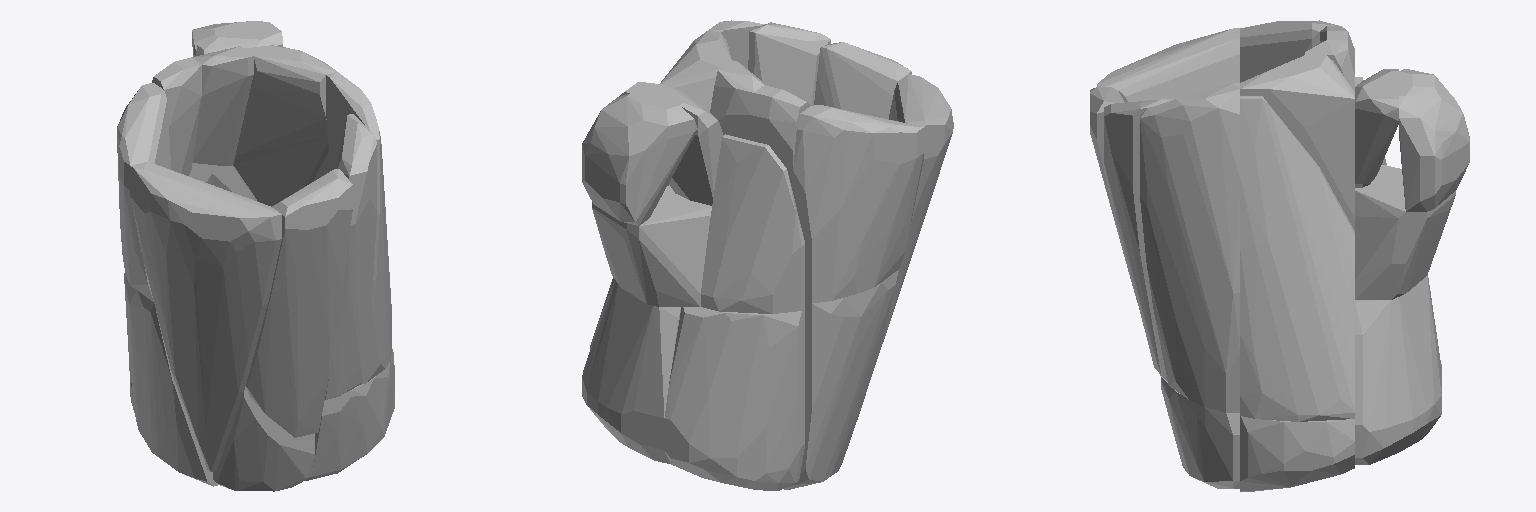
The robot description file, URDF, robot "root":
<robot name="root">
  <link name="link_6aec84952a5ffcf33f60d03e1cb068dc_convex_piece_0">
    <inertial>
      <origin rpy="0 0 0" xyz="0 0 0"/>
      <mass value="7.68E-07"/>
      <inertia ixx="2.96E-10" ixy="-3.58E-11" ixz="3.61E-11" iyy="1.75E-10" iyz="-1.30E-10" izz="1.61E-10"/>
    </inertial>
    <visual>
      <origin rpy="0 0 0" xyz="0 0 0"/>
      <geometry>
        <mesh filename="6aec84952a5ffcf33f60d03e1cb068dc_convex_piece_0.obj" scale="1.0000E+00"/>
      </geometry>
      <material name="">
        <color rgba="7.50E-01 7.50E-01 7.50E-01 1"/>
      </material>
    </visual>
    <collision>
      <origin rpy="0 0 0" xyz="0 0 0"/>
      <geometry>
        <mesh filename="6aec84952a5ffcf33f60d03e1cb068dc_convex_piece_0.obj" scale="1.0000E+00"/>
      </geometry>
    </collision>
  </link>
  <link name="link_6aec84952a5ffcf33f60d03e1cb068dc_convex_piece_1">
    <inertial>
      <origin rpy="0 0 0" xyz="0 0 0"/>
      <mass value="8.44E-07"/>
      <inertia ixx="3.04E-10" ixy="9.77E-11" ixz="-8.57E-11" iyy="2.18E-10" iyz="-1.34E-10" izz="2.41E-10"/>
    </inertial>
    <visual>
      <origin rpy="0 0 0" xyz="0 0 0"/>
      <geometry>
        <mesh filename="6aec84952a5ffcf33f60d03e1cb068dc_convex_piece_1.obj" scale="1.0000E+00"/>
      </geometry>
      <material name="">
        <color rgba="7.50E-01 7.50E-01 7.50E-01 1"/>
      </material>
    </visual>
    <collision>
      <origin rpy="0 0 0" xyz="0 0 0"/>
      <geometry>
        <mesh filename="6aec84952a5ffcf33f60d03e1cb068dc_convex_piece_1.obj" scale="1.0000E+00"/>
      </geometry>
    </collision>
  </link>
  <joint name="link_6aec84952a5ffcf33f60d03e1cb068dc_convex_piece_1_joint" type="fixed">
    <origin rpy="0 0 0" xyz="0 0 0"/>
    <parent link="link_6aec84952a5ffcf33f60d03e1cb068dc_convex_piece_0"/>
    <child link="link_6aec84952a5ffcf33f60d03e1cb068dc_convex_piece_1"/>
  </joint>
  <link name="link_6aec84952a5ffcf33f60d03e1cb068dc_convex_piece_2">
    <inertial>
      <origin rpy="0 0 0" xyz="0 0 0"/>
      <mass value="2.30E-07"/>
      <inertia ixx="5.10E-11" ixy="-1.28E-11" ixz="-8.72E-12" iyy="2.86E-11" iyz="2.03E-11" izz="3.72E-11"/>
    </inertial>
    <visual>
      <origin rpy="0 0 0" xyz="0 0 0"/>
      <geometry>
        <mesh filename="6aec84952a5ffcf33f60d03e1cb068dc_convex_piece_2.obj" scale="1.0000E+00"/>
      </geometry>
      <material name="">
        <color rgba="7.50E-01 7.50E-01 7.50E-01 1"/>
      </material>
    </visual>
    <collision>
      <origin rpy="0 0 0" xyz="0 0 0"/>
      <geometry>
        <mesh filename="6aec84952a5ffcf33f60d03e1cb068dc_convex_piece_2.obj" scale="1.0000E+00"/>
      </geometry>
    </collision>
  </link>
  <joint name="link_6aec84952a5ffcf33f60d03e1cb068dc_convex_piece_2_joint" type="fixed">
    <origin rpy="0 0 0" xyz="0 0 0"/>
    <parent link="link_6aec84952a5ffcf33f60d03e1cb068dc_convex_piece_1"/>
    <child link="link_6aec84952a5ffcf33f60d03e1cb068dc_convex_piece_2"/>
  </joint>
  <link name="link_6aec84952a5ffcf33f60d03e1cb068dc_convex_piece_3">
    <inertial>
      <origin rpy="0 0 0" xyz="0 0 0"/>
      <mass value="9.15E-07"/>
      <inertia ixx="2.45E-10" ixy="1.29E-10" ixz="-8.41E-11" iyy="2.80E-10" iyz="-7.55E-11" izz="2.93E-10"/>
    </inertial>
    <visual>
      <origin rpy="0 0 0" xyz="0 0 0"/>
      <geometry>
        <mesh filename="6aec84952a5ffcf33f60d03e1cb068dc_convex_piece_3.obj" scale="1.0000E+00"/>
      </geometry>
      <material name="">
        <color rgba="7.50E-01 7.50E-01 7.50E-01 1"/>
      </material>
    </visual>
    <collision>
      <origin rpy="0 0 0" xyz="0 0 0"/>
      <geometry>
        <mesh filename="6aec84952a5ffcf33f60d03e1cb068dc_convex_piece_3.obj" scale="1.0000E+00"/>
      </geometry>
    </collision>
  </link>
  <joint name="link_6aec84952a5ffcf33f60d03e1cb068dc_convex_piece_3_joint" type="fixed">
    <origin rpy="0 0 0" xyz="0 0 0"/>
    <parent link="link_6aec84952a5ffcf33f60d03e1cb068dc_convex_piece_2"/>
    <child link="link_6aec84952a5ffcf33f60d03e1cb068dc_convex_piece_3"/>
  </joint>
  <link name="link_6aec84952a5ffcf33f60d03e1cb068dc_convex_piece_4">
    <inertial>
      <origin rpy="0 0 0" xyz="0 0 0"/>
      <mass value="4.13E-07"/>
      <inertia ixx="1.96E-10" ixy="-2.95E-11" ixz="-6.96E-11" iyy="2.02E-10" iyz="6.80E-11" izz="6.95E-11"/>
    </inertial>
    <visual>
      <origin rpy="0 0 0" xyz="0 0 0"/>
      <geometry>
        <mesh filename="6aec84952a5ffcf33f60d03e1cb068dc_convex_piece_4.obj" scale="1.0000E+00"/>
      </geometry>
      <material name="">
        <color rgba="7.50E-01 7.50E-01 7.50E-01 1"/>
      </material>
    </visual>
    <collision>
      <origin rpy="0 0 0" xyz="0 0 0"/>
      <geometry>
        <mesh filename="6aec84952a5ffcf33f60d03e1cb068dc_convex_piece_4.obj" scale="1.0000E+00"/>
      </geometry>
    </collision>
  </link>
  <joint name="link_6aec84952a5ffcf33f60d03e1cb068dc_convex_piece_4_joint" type="fixed">
    <origin rpy="0 0 0" xyz="0 0 0"/>
    <parent link="link_6aec84952a5ffcf33f60d03e1cb068dc_convex_piece_3"/>
    <child link="link_6aec84952a5ffcf33f60d03e1cb068dc_convex_piece_4"/>
  </joint>
  <link name="link_6aec84952a5ffcf33f60d03e1cb068dc_convex_piece_5">
    <inertial>
      <origin rpy="0 0 0" xyz="0 0 0"/>
      <mass value="4.91E-07"/>
      <inertia ixx="1.29E-10" ixy="4.54E-11" ixz="2.09E-11" iyy="5.23E-11" iyz="4.58E-11" izz="1.29E-10"/>
    </inertial>
    <visual>
      <origin rpy="0 0 0" xyz="0 0 0"/>
      <geometry>
        <mesh filename="6aec84952a5ffcf33f60d03e1cb068dc_convex_piece_5.obj" scale="1.0000E+00"/>
      </geometry>
      <material name="">
        <color rgba="7.50E-01 7.50E-01 7.50E-01 1"/>
      </material>
    </visual>
    <collision>
      <origin rpy="0 0 0" xyz="0 0 0"/>
      <geometry>
        <mesh filename="6aec84952a5ffcf33f60d03e1cb068dc_convex_piece_5.obj" scale="1.0000E+00"/>
      </geometry>
    </collision>
  </link>
  <joint name="link_6aec84952a5ffcf33f60d03e1cb068dc_convex_piece_5_joint" type="fixed">
    <origin rpy="0 0 0" xyz="0 0 0"/>
    <parent link="link_6aec84952a5ffcf33f60d03e1cb068dc_convex_piece_4"/>
    <child link="link_6aec84952a5ffcf33f60d03e1cb068dc_convex_piece_5"/>
  </joint>
  <link name="link_6aec84952a5ffcf33f60d03e1cb068dc_convex_piece_6">
    <inertial>
      <origin rpy="0 0 0" xyz="0 0 0"/>
      <mass value="5.90E-07"/>
      <inertia ixx="2.36E-10" ixy="2.71E-11" ixz="-7.65E-12" iyy="6.95E-11" iyz="-5.50E-11" izz="1.84E-10"/>
    </inertial>
    <visual>
      <origin rpy="0 0 0" xyz="0 0 0"/>
      <geometry>
        <mesh filename="6aec84952a5ffcf33f60d03e1cb068dc_convex_piece_6.obj" scale="1.0000E+00"/>
      </geometry>
      <material name="">
        <color rgba="7.50E-01 7.50E-01 7.50E-01 1"/>
      </material>
    </visual>
    <collision>
      <origin rpy="0 0 0" xyz="0 0 0"/>
      <geometry>
        <mesh filename="6aec84952a5ffcf33f60d03e1cb068dc_convex_piece_6.obj" scale="1.0000E+00"/>
      </geometry>
    </collision>
  </link>
  <joint name="link_6aec84952a5ffcf33f60d03e1cb068dc_convex_piece_6_joint" type="fixed">
    <origin rpy="0 0 0" xyz="0 0 0"/>
    <parent link="link_6aec84952a5ffcf33f60d03e1cb068dc_convex_piece_5"/>
    <child link="link_6aec84952a5ffcf33f60d03e1cb068dc_convex_piece_6"/>
  </joint>
  <link name="link_6aec84952a5ffcf33f60d03e1cb068dc_convex_piece_7">
    <inertial>
      <origin rpy="0 0 0" xyz="0 0 0"/>
      <mass value="3.85E-07"/>
      <inertia ixx="1.69E-10" ixy="1.03E-11" ixz="2.00E-11" iyy="1.44E-10" iyz="5.89E-11" izz="3.86E-11"/>
    </inertial>
    <visual>
      <origin rpy="0 0 0" xyz="0 0 0"/>
      <geometry>
        <mesh filename="6aec84952a5ffcf33f60d03e1cb068dc_convex_piece_7.obj" scale="1.0000E+00"/>
      </geometry>
      <material name="">
        <color rgba="7.50E-01 7.50E-01 7.50E-01 1"/>
      </material>
    </visual>
    <collision>
      <origin rpy="0 0 0" xyz="0 0 0"/>
      <geometry>
        <mesh filename="6aec84952a5ffcf33f60d03e1cb068dc_convex_piece_7.obj" scale="1.0000E+00"/>
      </geometry>
    </collision>
  </link>
  <joint name="link_6aec84952a5ffcf33f60d03e1cb068dc_convex_piece_7_joint" type="fixed">
    <origin rpy="0 0 0" xyz="0 0 0"/>
    <parent link="link_6aec84952a5ffcf33f60d03e1cb068dc_convex_piece_6"/>
    <child link="link_6aec84952a5ffcf33f60d03e1cb068dc_convex_piece_7"/>
  </joint>
  <link name="link_6aec84952a5ffcf33f60d03e1cb068dc_convex_piece_8">
    <inertial>
      <origin rpy="0 0 0" xyz="0 0 0"/>
      <mass value="8.21E-07"/>
      <inertia ixx="1.89E-10" ixy="-2.11E-11" ixz="1.01E-10" iyy="2.70E-10" iyz="-2.41E-11" izz="1.15E-10"/>
    </inertial>
    <visual>
      <origin rpy="0 0 0" xyz="0 0 0"/>
      <geometry>
        <mesh filename="6aec84952a5ffcf33f60d03e1cb068dc_convex_piece_8.obj" scale="1.0000E+00"/>
      </geometry>
      <material name="">
        <color rgba="7.50E-01 7.50E-01 7.50E-01 1"/>
      </material>
    </visual>
    <collision>
      <origin rpy="0 0 0" xyz="0 0 0"/>
      <geometry>
        <mesh filename="6aec84952a5ffcf33f60d03e1cb068dc_convex_piece_8.obj" scale="1.0000E+00"/>
      </geometry>
    </collision>
  </link>
  <joint name="link_6aec84952a5ffcf33f60d03e1cb068dc_convex_piece_8_joint" type="fixed">
    <origin rpy="0 0 0" xyz="0 0 0"/>
    <parent link="link_6aec84952a5ffcf33f60d03e1cb068dc_convex_piece_7"/>
    <child link="link_6aec84952a5ffcf33f60d03e1cb068dc_convex_piece_8"/>
  </joint>
  <link name="link_6aec84952a5ffcf33f60d03e1cb068dc_convex_piece_9">
    <inertial>
      <origin rpy="0 0 0" xyz="0 0 0"/>
      <mass value="2.19E-07"/>
      <inertia ixx="1.30E-10" ixy="-1.06E-12" ixz="1.24E-11" iyy="1.29E-10" iyz="-9.74E-12" izz="6.34E-12"/>
    </inertial>
    <visual>
      <origin rpy="0 0 0" xyz="0 0 0"/>
      <geometry>
        <mesh filename="6aec84952a5ffcf33f60d03e1cb068dc_convex_piece_9.obj" scale="1.0000E+00"/>
      </geometry>
      <material name="">
        <color rgba="7.50E-01 7.50E-01 7.50E-01 1"/>
      </material>
    </visual>
    <collision>
      <origin rpy="0 0 0" xyz="0 0 0"/>
      <geometry>
        <mesh filename="6aec84952a5ffcf33f60d03e1cb068dc_convex_piece_9.obj" scale="1.0000E+00"/>
      </geometry>
    </collision>
  </link>
  <joint name="link_6aec84952a5ffcf33f60d03e1cb068dc_convex_piece_9_joint" type="fixed">
    <origin rpy="0 0 0" xyz="0 0 0"/>
    <parent link="link_6aec84952a5ffcf33f60d03e1cb068dc_convex_piece_8"/>
    <child link="link_6aec84952a5ffcf33f60d03e1cb068dc_convex_piece_9"/>
  </joint>
  <link name="link_6aec84952a5ffcf33f60d03e1cb068dc_convex_piece_10">
    <inertial>
      <origin rpy="0 0 0" xyz="0 0 0"/>
      <mass value="6.22E-07"/>
      <inertia ixx="1.31E-10" ixy="-1.64E-11" ixz="-1.11E-10" iyy="2.51E-10" iyz="1.76E-11" izz="1.41E-10"/>
    </inertial>
    <visual>
      <origin rpy="0 0 0" xyz="0 0 0"/>
      <geometry>
        <mesh filename="6aec84952a5ffcf33f60d03e1cb068dc_convex_piece_10.obj" scale="1.0000E+00"/>
      </geometry>
      <material name="">
        <color rgba="7.50E-01 7.50E-01 7.50E-01 1"/>
      </material>
    </visual>
    <collision>
      <origin rpy="0 0 0" xyz="0 0 0"/>
      <geometry>
        <mesh filename="6aec84952a5ffcf33f60d03e1cb068dc_convex_piece_10.obj" scale="1.0000E+00"/>
      </geometry>
    </collision>
  </link>
  <joint name="link_6aec84952a5ffcf33f60d03e1cb068dc_convex_piece_10_joint" type="fixed">
    <origin rpy="0 0 0" xyz="0 0 0"/>
    <parent link="link_6aec84952a5ffcf33f60d03e1cb068dc_convex_piece_9"/>
    <child link="link_6aec84952a5ffcf33f60d03e1cb068dc_convex_piece_10"/>
  </joint>
  <link name="link_6aec84952a5ffcf33f60d03e1cb068dc_convex_piece_11">
    <inertial>
      <origin rpy="0 0 0" xyz="0 0 0"/>
      <mass value="2.24E-07"/>
      <inertia ixx="1.15E-10" ixy="4.09E-12" ixz="-3.94E-11" iyy="1.27E-10" iyz="-1.06E-11" izz="2.14E-11"/>
    </inertial>
    <visual>
      <origin rpy="0 0 0" xyz="0 0 0"/>
      <geometry>
        <mesh filename="6aec84952a5ffcf33f60d03e1cb068dc_convex_piece_11.obj" scale="1.0000E+00"/>
      </geometry>
      <material name="">
        <color rgba="7.50E-01 7.50E-01 7.50E-01 1"/>
      </material>
    </visual>
    <collision>
      <origin rpy="0 0 0" xyz="0 0 0"/>
      <geometry>
        <mesh filename="6aec84952a5ffcf33f60d03e1cb068dc_convex_piece_11.obj" scale="1.0000E+00"/>
      </geometry>
    </collision>
  </link>
  <joint name="link_6aec84952a5ffcf33f60d03e1cb068dc_convex_piece_11_joint" type="fixed">
    <origin rpy="0 0 0" xyz="0 0 0"/>
    <parent link="link_6aec84952a5ffcf33f60d03e1cb068dc_convex_piece_10"/>
    <child link="link_6aec84952a5ffcf33f60d03e1cb068dc_convex_piece_11"/>
  </joint>
  <link name="link_6aec84952a5ffcf33f60d03e1cb068dc_convex_piece_12">
    <inertial>
      <origin rpy="0 0 0" xyz="0 0 0"/>
      <mass value="2.62E-07"/>
      <inertia ixx="9.07E-11" ixy="9.50E-12" ixz="-7.83E-11" iyy="1.60E-10" iyz="-9.52E-12" izz="7.94E-11"/>
    </inertial>
    <visual>
      <origin rpy="0 0 0" xyz="0 0 0"/>
      <geometry>
        <mesh filename="6aec84952a5ffcf33f60d03e1cb068dc_convex_piece_12.obj" scale="1.0000E+00"/>
      </geometry>
      <material name="">
        <color rgba="7.50E-01 7.50E-01 7.50E-01 1"/>
      </material>
    </visual>
    <collision>
      <origin rpy="0 0 0" xyz="0 0 0"/>
      <geometry>
        <mesh filename="6aec84952a5ffcf33f60d03e1cb068dc_convex_piece_12.obj" scale="1.0000E+00"/>
      </geometry>
    </collision>
  </link>
  <joint name="link_6aec84952a5ffcf33f60d03e1cb068dc_convex_piece_12_joint" type="fixed">
    <origin rpy="0 0 0" xyz="0 0 0"/>
    <parent link="link_6aec84952a5ffcf33f60d03e1cb068dc_convex_piece_11"/>
    <child link="link_6aec84952a5ffcf33f60d03e1cb068dc_convex_piece_12"/>
  </joint>
  <link name="link_6aec84952a5ffcf33f60d03e1cb068dc_convex_piece_13">
    <inertial>
      <origin rpy="0 0 0" xyz="0 0 0"/>
      <mass value="4.79E-07"/>
      <inertia ixx="1.76E-10" ixy="-3.96E-11" ixz="1.67E-11" iyy="8.01E-11" iyz="-4.84E-11" izz="1.27E-10"/>
    </inertial>
    <visual>
      <origin rpy="0 0 0" xyz="0 0 0"/>
      <geometry>
        <mesh filename="6aec84952a5ffcf33f60d03e1cb068dc_convex_piece_13.obj" scale="1.0000E+00"/>
      </geometry>
      <material name="">
        <color rgba="7.50E-01 7.50E-01 7.50E-01 1"/>
      </material>
    </visual>
    <collision>
      <origin rpy="0 0 0" xyz="0 0 0"/>
      <geometry>
        <mesh filename="6aec84952a5ffcf33f60d03e1cb068dc_convex_piece_13.obj" scale="1.0000E+00"/>
      </geometry>
    </collision>
  </link>
  <joint name="link_6aec84952a5ffcf33f60d03e1cb068dc_convex_piece_13_joint" type="fixed">
    <origin rpy="0 0 0" xyz="0 0 0"/>
    <parent link="link_6aec84952a5ffcf33f60d03e1cb068dc_convex_piece_12"/>
    <child link="link_6aec84952a5ffcf33f60d03e1cb068dc_convex_piece_13"/>
  </joint>
  <link name="link_6aec84952a5ffcf33f60d03e1cb068dc_convex_piece_14">
    <inertial>
      <origin rpy="0 0 0" xyz="0 0 0"/>
      <mass value="6.88E-07"/>
      <inertia ixx="1.64E-10" ixy="-7.17E-11" ixz="3.92E-11" iyy="1.90E-10" iyz="-3.74E-11" izz="1.57E-10"/>
    </inertial>
    <visual>
      <origin rpy="0 0 0" xyz="0 0 0"/>
      <geometry>
        <mesh filename="6aec84952a5ffcf33f60d03e1cb068dc_convex_piece_14.obj" scale="1.0000E+00"/>
      </geometry>
      <material name="">
        <color rgba="7.50E-01 7.50E-01 7.50E-01 1"/>
      </material>
    </visual>
    <collision>
      <origin rpy="0 0 0" xyz="0 0 0"/>
      <geometry>
        <mesh filename="6aec84952a5ffcf33f60d03e1cb068dc_convex_piece_14.obj" scale="1.0000E+00"/>
      </geometry>
    </collision>
  </link>
  <joint name="link_6aec84952a5ffcf33f60d03e1cb068dc_convex_piece_14_joint" type="fixed">
    <origin rpy="0 0 0" xyz="0 0 0"/>
    <parent link="link_6aec84952a5ffcf33f60d03e1cb068dc_convex_piece_13"/>
    <child link="link_6aec84952a5ffcf33f60d03e1cb068dc_convex_piece_14"/>
  </joint>
  <link name="link_6aec84952a5ffcf33f60d03e1cb068dc_convex_piece_15">
    <inertial>
      <origin rpy="0 0 0" xyz="0 0 0"/>
      <mass value="4.89E-07"/>
      <inertia ixx="1.93E-10" ixy="1.35E-11" ixz="6.07E-11" iyy="2.04E-10" iyz="3.39E-11" izz="4.01E-11"/>
    </inertial>
    <visual>
      <origin rpy="0 0 0" xyz="0 0 0"/>
      <geometry>
        <mesh filename="6aec84952a5ffcf33f60d03e1cb068dc_convex_piece_15.obj" scale="1.0000E+00"/>
      </geometry>
      <material name="">
        <color rgba="7.50E-01 7.50E-01 7.50E-01 1"/>
      </material>
    </visual>
    <collision>
      <origin rpy="0 0 0" xyz="0 0 0"/>
      <geometry>
        <mesh filename="6aec84952a5ffcf33f60d03e1cb068dc_convex_piece_15.obj" scale="1.0000E+00"/>
      </geometry>
    </collision>
  </link>
  <joint name="link_6aec84952a5ffcf33f60d03e1cb068dc_convex_piece_15_joint" type="fixed">
    <origin rpy="0 0 0" xyz="0 0 0"/>
    <parent link="link_6aec84952a5ffcf33f60d03e1cb068dc_convex_piece_14"/>
    <child link="link_6aec84952a5ffcf33f60d03e1cb068dc_convex_piece_15"/>
  </joint>
  <link name="link_6aec84952a5ffcf33f60d03e1cb068dc_convex_piece_16">
    <inertial>
      <origin rpy="0 0 0" xyz="0 0 0"/>
      <mass value="7.32E-07"/>
      <inertia ixx="7.20E-11" ixy="1.86E-11" ixz="-1.98E-13" iyy="2.04E-10" iyz="-5.09E-12" izz="1.58E-10"/>
    </inertial>
    <visual>
      <origin rpy="0 0 0" xyz="0 0 0"/>
      <geometry>
        <mesh filename="6aec84952a5ffcf33f60d03e1cb068dc_convex_piece_16.obj" scale="1.0000E+00"/>
      </geometry>
      <material name="">
        <color rgba="7.50E-01 7.50E-01 7.50E-01 1"/>
      </material>
    </visual>
    <collision>
      <origin rpy="0 0 0" xyz="0 0 0"/>
      <geometry>
        <mesh filename="6aec84952a5ffcf33f60d03e1cb068dc_convex_piece_16.obj" scale="1.0000E+00"/>
      </geometry>
    </collision>
  </link>
  <joint name="link_6aec84952a5ffcf33f60d03e1cb068dc_convex_piece_16_joint" type="fixed">
    <origin rpy="0 0 0" xyz="0 0 0"/>
    <parent link="link_6aec84952a5ffcf33f60d03e1cb068dc_convex_piece_15"/>
    <child link="link_6aec84952a5ffcf33f60d03e1cb068dc_convex_piece_16"/>
  </joint>
  <link name="link_6aec84952a5ffcf33f60d03e1cb068dc_convex_piece_17">
    <inertial>
      <origin rpy="0 0 0" xyz="0 0 0"/>
      <mass value="1.96E-07"/>
      <inertia ixx="1.11E-10" ixy="1.16E-11" ixz="2.09E-11" iyy="8.99E-11" iyz="4.71E-11" izz="3.38E-11"/>
    </inertial>
    <visual>
      <origin rpy="0 0 0" xyz="0 0 0"/>
      <geometry>
        <mesh filename="6aec84952a5ffcf33f60d03e1cb068dc_convex_piece_17.obj" scale="1.0000E+00"/>
      </geometry>
      <material name="">
        <color rgba="7.50E-01 7.50E-01 7.50E-01 1"/>
      </material>
    </visual>
    <collision>
      <origin rpy="0 0 0" xyz="0 0 0"/>
      <geometry>
        <mesh filename="6aec84952a5ffcf33f60d03e1cb068dc_convex_piece_17.obj" scale="1.0000E+00"/>
      </geometry>
    </collision>
  </link>
  <joint name="link_6aec84952a5ffcf33f60d03e1cb068dc_convex_piece_17_joint" type="fixed">
    <origin rpy="0 0 0" xyz="0 0 0"/>
    <parent link="link_6aec84952a5ffcf33f60d03e1cb068dc_convex_piece_16"/>
    <child link="link_6aec84952a5ffcf33f60d03e1cb068dc_convex_piece_17"/>
  </joint>
  <link name="link_6aec84952a5ffcf33f60d03e1cb068dc_convex_piece_18">
    <inertial>
      <origin rpy="0 0 0" xyz="0 0 0"/>
      <mass value="3.08E-07"/>
      <inertia ixx="2.18E-10" ixy="4.42E-11" ixz="4.63E-11" iyy="1.38E-10" iyz="1.06E-10" izz="1.24E-10"/>
    </inertial>
    <visual>
      <origin rpy="0 0 0" xyz="0 0 0"/>
      <geometry>
        <mesh filename="6aec84952a5ffcf33f60d03e1cb068dc_convex_piece_18.obj" scale="1.0000E+00"/>
      </geometry>
      <material name="">
        <color rgba="7.50E-01 7.50E-01 7.50E-01 1"/>
      </material>
    </visual>
    <collision>
      <origin rpy="0 0 0" xyz="0 0 0"/>
      <geometry>
        <mesh filename="6aec84952a5ffcf33f60d03e1cb068dc_convex_piece_18.obj" scale="1.0000E+00"/>
      </geometry>
    </collision>
  </link>
  <joint name="link_6aec84952a5ffcf33f60d03e1cb068dc_convex_piece_18_joint" type="fixed">
    <origin rpy="0 0 0" xyz="0 0 0"/>
    <parent link="link_6aec84952a5ffcf33f60d03e1cb068dc_convex_piece_17"/>
    <child link="link_6aec84952a5ffcf33f60d03e1cb068dc_convex_piece_18"/>
  </joint>
  <link name="link_6aec84952a5ffcf33f60d03e1cb068dc_convex_piece_19">
    <inertial>
      <origin rpy="0 0 0" xyz="0 0 0"/>
      <mass value="1.44E-07"/>
      <inertia ixx="5.57E-11" ixy="-8.00E-12" ixz="-1.71E-11" iyy="5.49E-11" iyz="1.83E-11" izz="1.63E-11"/>
    </inertial>
    <visual>
      <origin rpy="0 0 0" xyz="0 0 0"/>
      <geometry>
        <mesh filename="6aec84952a5ffcf33f60d03e1cb068dc_convex_piece_19.obj" scale="1.0000E+00"/>
      </geometry>
      <material name="">
        <color rgba="7.50E-01 7.50E-01 7.50E-01 1"/>
      </material>
    </visual>
    <collision>
      <origin rpy="0 0 0" xyz="0 0 0"/>
      <geometry>
        <mesh filename="6aec84952a5ffcf33f60d03e1cb068dc_convex_piece_19.obj" scale="1.0000E+00"/>
      </geometry>
    </collision>
  </link>
  <joint name="link_6aec84952a5ffcf33f60d03e1cb068dc_convex_piece_19_joint" type="fixed">
    <origin rpy="0 0 0" xyz="0 0 0"/>
    <parent link="link_6aec84952a5ffcf33f60d03e1cb068dc_convex_piece_18"/>
    <child link="link_6aec84952a5ffcf33f60d03e1cb068dc_convex_piece_19"/>
  </joint>
  <link name="link_6aec84952a5ffcf33f60d03e1cb068dc_convex_piece_20">
    <inertial>
      <origin rpy="0 0 0" xyz="0 0 0"/>
      <mass value="1.16E-07"/>
      <inertia ixx="5.97E-11" ixy="-5.61E-13" ixz="-1.20E-12" iyy="5.36E-11" iyz="1.73E-11" izz="6.51E-12"/>
    </inertial>
    <visual>
      <origin rpy="0 0 0" xyz="0 0 0"/>
      <geometry>
        <mesh filename="6aec84952a5ffcf33f60d03e1cb068dc_convex_piece_20.obj" scale="1.0000E+00"/>
      </geometry>
      <material name="">
        <color rgba="7.50E-01 7.50E-01 7.50E-01 1"/>
      </material>
    </visual>
    <collision>
      <origin rpy="0 0 0" xyz="0 0 0"/>
      <geometry>
        <mesh filename="6aec84952a5ffcf33f60d03e1cb068dc_convex_piece_20.obj" scale="1.0000E+00"/>
      </geometry>
    </collision>
  </link>
  <joint name="link_6aec84952a5ffcf33f60d03e1cb068dc_convex_piece_20_joint" type="fixed">
    <origin rpy="0 0 0" xyz="0 0 0"/>
    <parent link="link_6aec84952a5ffcf33f60d03e1cb068dc_convex_piece_19"/>
    <child link="link_6aec84952a5ffcf33f60d03e1cb068dc_convex_piece_20"/>
  </joint>
</robot>

--- Facts derived from the render (not from the file) ---
3 views of the same robot in one strip: view 1: azimuth 30°, elevation 25°; view 2: azimuth 150°, elevation 25°; view 3: azimuth 270°, elevation 25° (orthographic).
Model root with 21 links and 20 joints (20 fixed), rooted at link_6aec84952a5ffcf33f60d03e1cb068dc_convex_piece_0, posed all joints at 0.
Links seen in each view (by area): view 1: link_6aec84952a5ffcf33f60d03e1cb068dc_convex_piece_3, link_6aec84952a5ffcf33f60d03e1cb068dc_convex_piece_6, link_6aec84952a5ffcf33f60d03e1cb068dc_convex_piece_15, link_6aec84952a5ffcf33f60d03e1cb068dc_convex_piece_13, link_6aec84952a5ffcf33f60d03e1cb068dc_convex_piece_8, link_6aec84952a5ffcf33f60d03e1cb068dc_convex_piece_7, link_6aec84952a5ffcf33f60d03e1cb068dc_convex_piece_14, link_6aec84952a5ffcf33f60d03e1cb068dc_convex_piece_10, link_6aec84952a5ffcf33f60d03e1cb068dc_convex_piece_4, link_6aec84952a5ffcf33f60d03e1cb068dc_convex_piece_20, link_6aec84952a5ffcf33f60d03e1cb068dc_convex_piece_19, link_6aec84952a5ffcf33f60d03e1cb068dc_convex_piece_17 (+2 smaller); view 2: link_6aec84952a5ffcf33f60d03e1cb068dc_convex_piece_0, link_6aec84952a5ffcf33f60d03e1cb068dc_convex_piece_10, link_6aec84952a5ffcf33f60d03e1cb068dc_convex_piece_2, link_6aec84952a5ffcf33f60d03e1cb068dc_convex_piece_8, link_6aec84952a5ffcf33f60d03e1cb068dc_convex_piece_1, link_6aec84952a5ffcf33f60d03e1cb068dc_convex_piece_18, link_6aec84952a5ffcf33f60d03e1cb068dc_convex_piece_5, link_6aec84952a5ffcf33f60d03e1cb068dc_convex_piece_3, link_6aec84952a5ffcf33f60d03e1cb068dc_convex_piece_6, link_6aec84952a5ffcf33f60d03e1cb068dc_convex_piece_13, link_6aec84952a5ffcf33f60d03e1cb068dc_convex_piece_17, link_6aec84952a5ffcf33f60d03e1cb068dc_convex_piece_19 (+3 smaller); view 3: link_6aec84952a5ffcf33f60d03e1cb068dc_convex_piece_16, link_6aec84952a5ffcf33f60d03e1cb068dc_convex_piece_14, link_6aec84952a5ffcf33f60d03e1cb068dc_convex_piece_1, link_6aec84952a5ffcf33f60d03e1cb068dc_convex_piece_15, link_6aec84952a5ffcf33f60d03e1cb068dc_convex_piece_5, link_6aec84952a5ffcf33f60d03e1cb068dc_convex_piece_18, link_6aec84952a5ffcf33f60d03e1cb068dc_convex_piece_12, link_6aec84952a5ffcf33f60d03e1cb068dc_convex_piece_13, link_6aec84952a5ffcf33f60d03e1cb068dc_convex_piece_3, link_6aec84952a5ffcf33f60d03e1cb068dc_convex_piece_4, link_6aec84952a5ffcf33f60d03e1cb068dc_convex_piece_17, link_6aec84952a5ffcf33f60d03e1cb068dc_convex_piece_10 (+2 smaller).
Boxes of the visible links, x1=… form: link_6aec84952a5ffcf33f60d03e1cb068dc_convex_piece_3: x1=130, y1=162, x2=281, y2=471; link_6aec84952a5ffcf33f60d03e1cb068dc_convex_piece_6: x1=245, y1=169, x2=352, y2=437; link_6aec84952a5ffcf33f60d03e1cb068dc_convex_piece_15: x1=232, y1=45, x2=336, y2=206; link_6aec84952a5ffcf33f60d03e1cb068dc_convex_piece_13: x1=325, y1=114, x2=376, y2=399; link_6aec84952a5ffcf33f60d03e1cb068dc_convex_piece_8: x1=124, y1=273, x2=217, y2=486; link_6aec84952a5ffcf33f60d03e1cb068dc_convex_piece_7: x1=213, y1=388, x2=314, y2=491; link_6aec84952a5ffcf33f60d03e1cb068dc_convex_piece_14: x1=326, y1=72, x2=391, y2=384; link_6aec84952a5ffcf33f60d03e1cb068dc_convex_piece_10: x1=117, y1=83, x2=170, y2=301; link_6aec84952a5ffcf33f60d03e1cb068dc_convex_piece_4: x1=305, y1=353, x2=394, y2=480; link_6aec84952a5ffcf33f60d03e1cb068dc_convex_piece_20: x1=192, y1=46, x2=253, y2=165; link_6aec84952a5ffcf33f60d03e1cb068dc_convex_piece_19: x1=152, y1=57, x2=201, y2=175; link_6aec84952a5ffcf33f60d03e1cb068dc_convex_piece_17: x1=196, y1=22, x2=282, y2=55; link_6aec84952a5ffcf33f60d03e1cb068dc_convex_piece_0: x1=665, y1=307, x2=804, y2=490; link_6aec84952a5ffcf33f60d03e1cb068dc_convex_piece_10: x1=793, y1=105, x2=923, y2=302; link_6aec84952a5ffcf33f60d03e1cb068dc_convex_piece_2: x1=701, y1=134, x2=804, y2=313; link_6aec84952a5ffcf33f60d03e1cb068dc_convex_piece_8: x1=784, y1=270, x2=898, y2=489; link_6aec84952a5ffcf33f60d03e1cb068dc_convex_piece_1: x1=582, y1=280, x2=680, y2=464; link_6aec84952a5ffcf33f60d03e1cb068dc_convex_piece_18: x1=582, y1=93, x2=697, y2=225; link_6aec84952a5ffcf33f60d03e1cb068dc_convex_piece_5: x1=592, y1=185, x2=711, y2=306; link_6aec84952a5ffcf33f60d03e1cb068dc_convex_piece_3: x1=876, y1=74, x2=953, y2=361; link_6aec84952a5ffcf33f60d03e1cb068dc_convex_piece_6: x1=814, y1=42, x2=911, y2=118; link_6aec84952a5ffcf33f60d03e1cb068dc_convex_piece_13: x1=748, y1=22, x2=830, y2=105; link_6aec84952a5ffcf33f60d03e1cb068dc_convex_piece_17: x1=619, y1=82, x2=723, y2=205; link_6aec84952a5ffcf33f60d03e1cb068dc_convex_piece_19: x1=750, y1=85, x2=810, y2=190; link_6aec84952a5ffcf33f60d03e1cb068dc_convex_piece_16: x1=1240, y1=96, x2=1354, y2=421; link_6aec84952a5ffcf33f60d03e1cb068dc_convex_piece_14: x1=1140, y1=83, x2=1239, y2=412; link_6aec84952a5ffcf33f60d03e1cb068dc_convex_piece_1: x1=1355, y1=275, x2=1441, y2=464; link_6aec84952a5ffcf33f60d03e1cb068dc_convex_piece_15: x1=1240, y1=55, x2=1354, y2=230; link_6aec84952a5ffcf33f60d03e1cb068dc_convex_piece_5: x1=1355, y1=165, x2=1455, y2=299; link_6aec84952a5ffcf33f60d03e1cb068dc_convex_piece_18: x1=1399, y1=69, x2=1469, y2=211; link_6aec84952a5ffcf33f60d03e1cb068dc_convex_piece_12: x1=1240, y1=416, x2=1354, y2=491; link_6aec84952a5ffcf33f60d03e1cb068dc_convex_piece_13: x1=1104, y1=99, x2=1173, y2=381; link_6aec84952a5ffcf33f60d03e1cb068dc_convex_piece_3: x1=1097, y1=28, x2=1239, y2=102; link_6aec84952a5ffcf33f60d03e1cb068dc_convex_piece_4: x1=1161, y1=376, x2=1239, y2=488; link_6aec84952a5ffcf33f60d03e1cb068dc_convex_piece_17: x1=1355, y1=69, x2=1398, y2=187; link_6aec84952a5ffcf33f60d03e1cb068dc_convex_piece_10: x1=1240, y1=20, x2=1338, y2=82.
Size in the robot's own frame: 0.041 by 0.0463 by 0.0559 metres.
Meshes: 21 distinct files referenced, 21 mesh visuals loaded (21 OBJ).